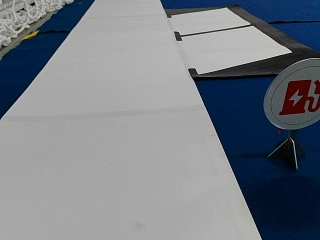battery: (264, 58, 319, 129)
